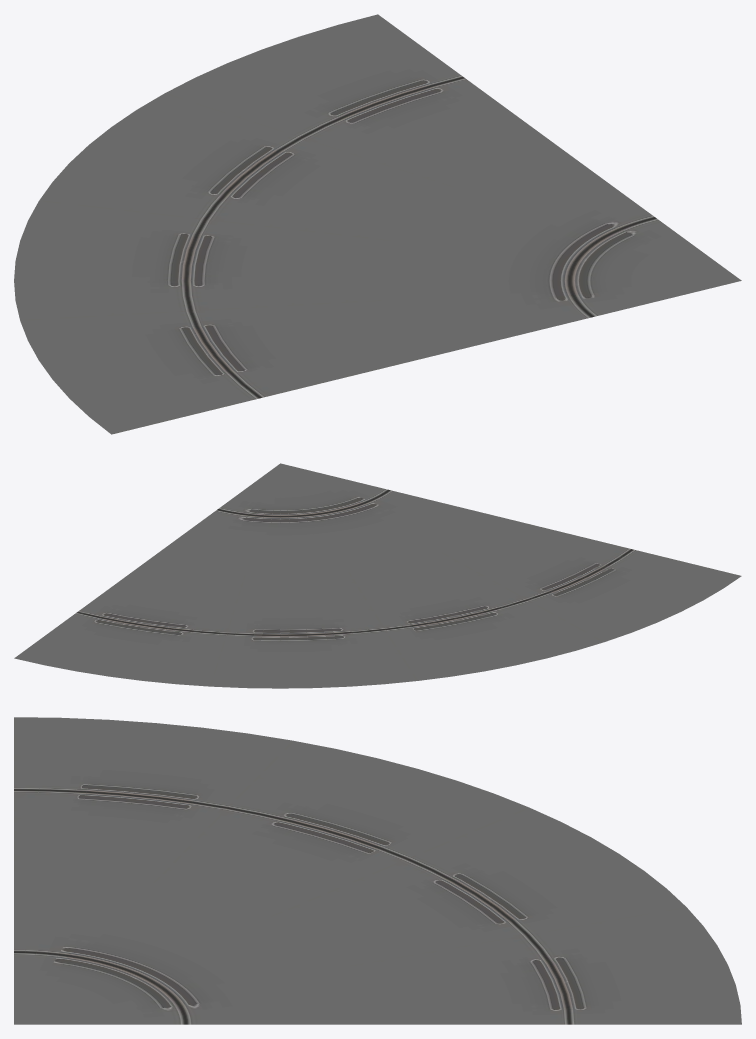
Rendered from Platform_Metal_Curve.glb.
3 views of the same model, one above another, from view 1: azimuth 30°, elevation 25°; view 2: azimuth 150°, elevation 25°; view 3: azimuth 270°, elevation 25° (orthographic). The views are drawn at different scales.
Parts seen in each view (by area): view 1: Platform_Metal_Curve; view 2: Platform_Metal_Curve; view 3: Platform_Metal_Curve.
Part boxes in pixels (x1,y1,x2,y2): Platform_Metal_Curve: (14, 14, 741, 434); Platform_Metal_Curve: (14, 463, 741, 688); Platform_Metal_Curve: (14, 717, 741, 1024).
Bounding box in the file's own units: 4 × 0 × 4.
1 material, 1 textured.
